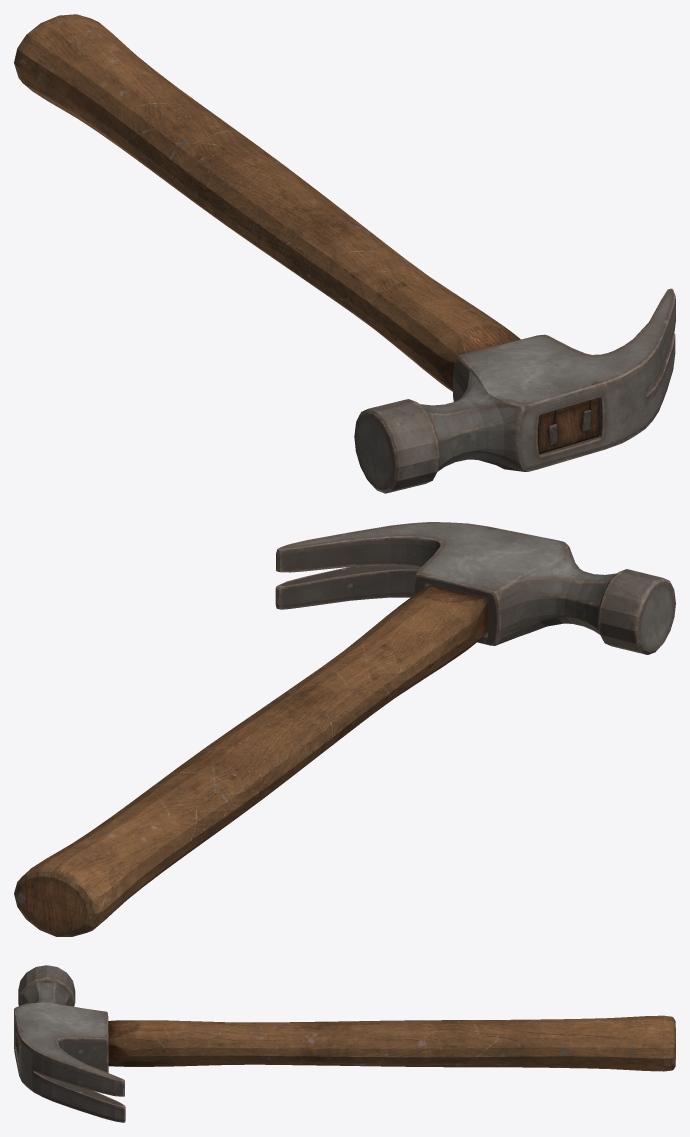
The model's file is wooden_hammer_01.obj.
The picture shows the model from 3 angles, top to bottom: view 1: azimuth 30°, elevation 25°; view 2: azimuth 150°, elevation 25°; view 3: azimuth 270°, elevation 25°; orthographic projection. The views are drawn at different scales.
Bounding box in the file's own units: 0.1122 × 0.0235 × 0.28.
1 material, 1 textured.
